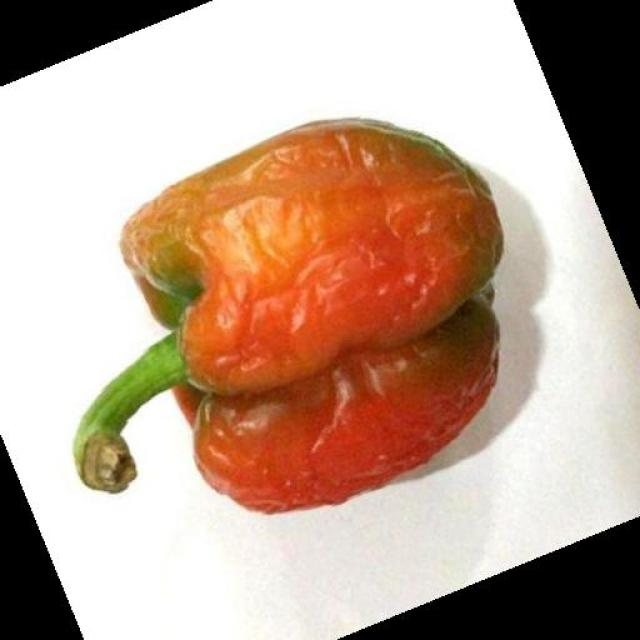Stale_Capsicum: (79, 106, 517, 513)
